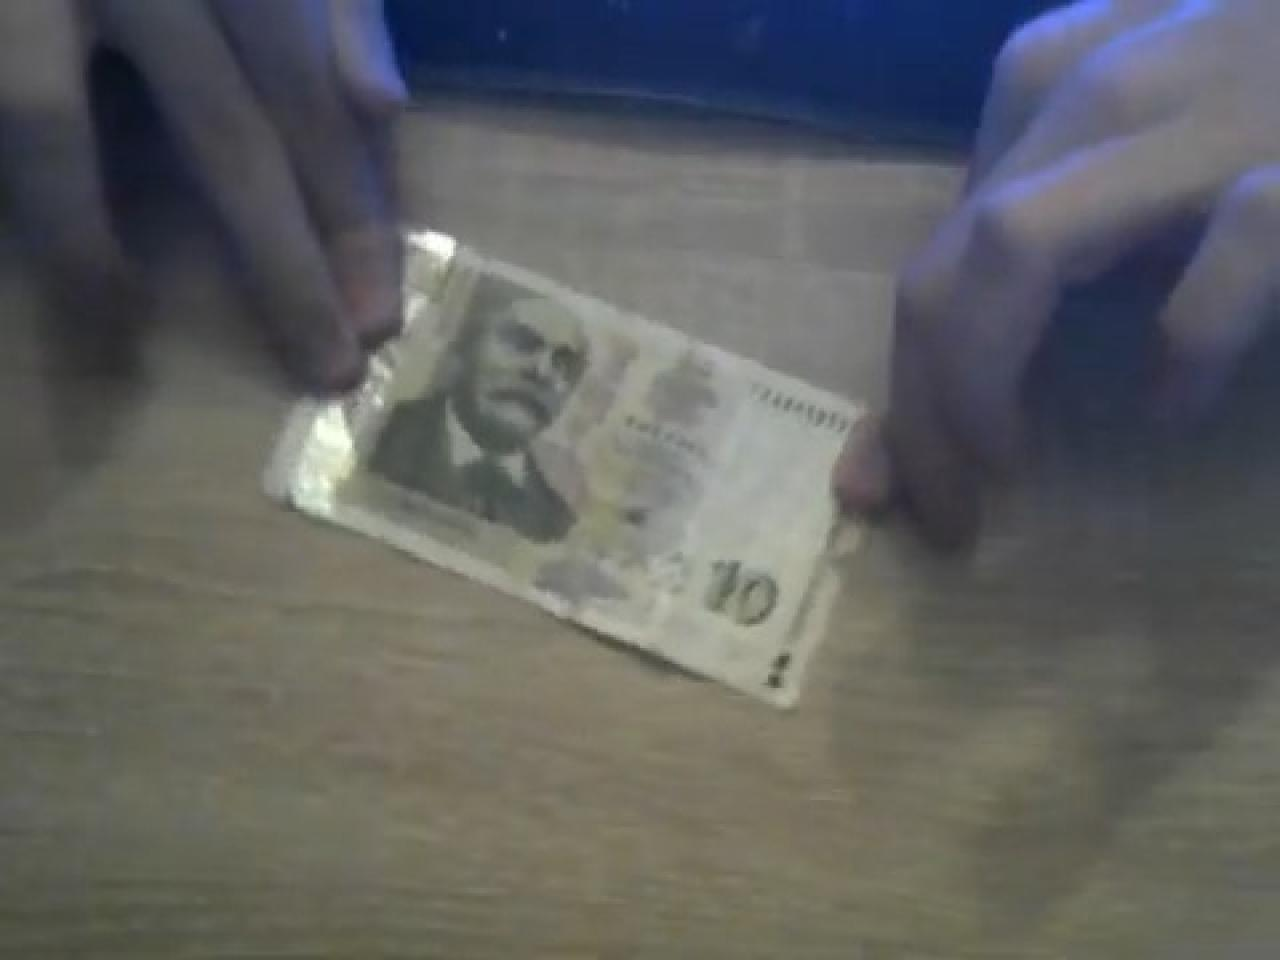10leva: (259, 229, 864, 715)
